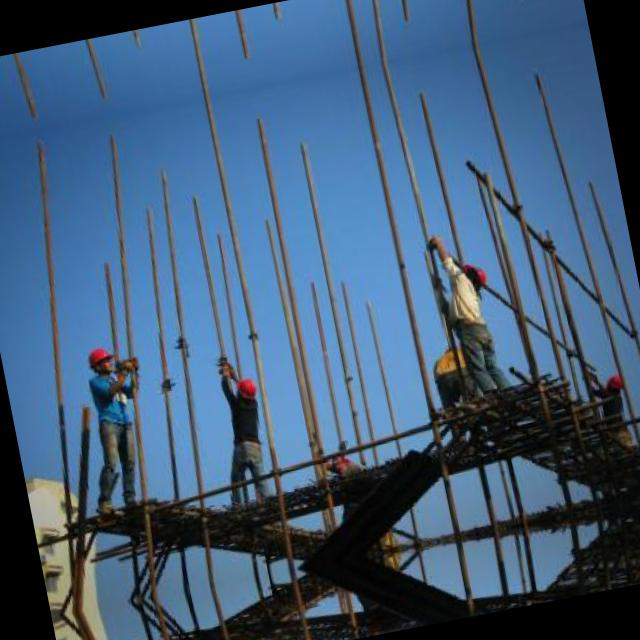helmet: (455, 255, 491, 297), (80, 342, 114, 378), (224, 372, 260, 406), (597, 369, 626, 399)
